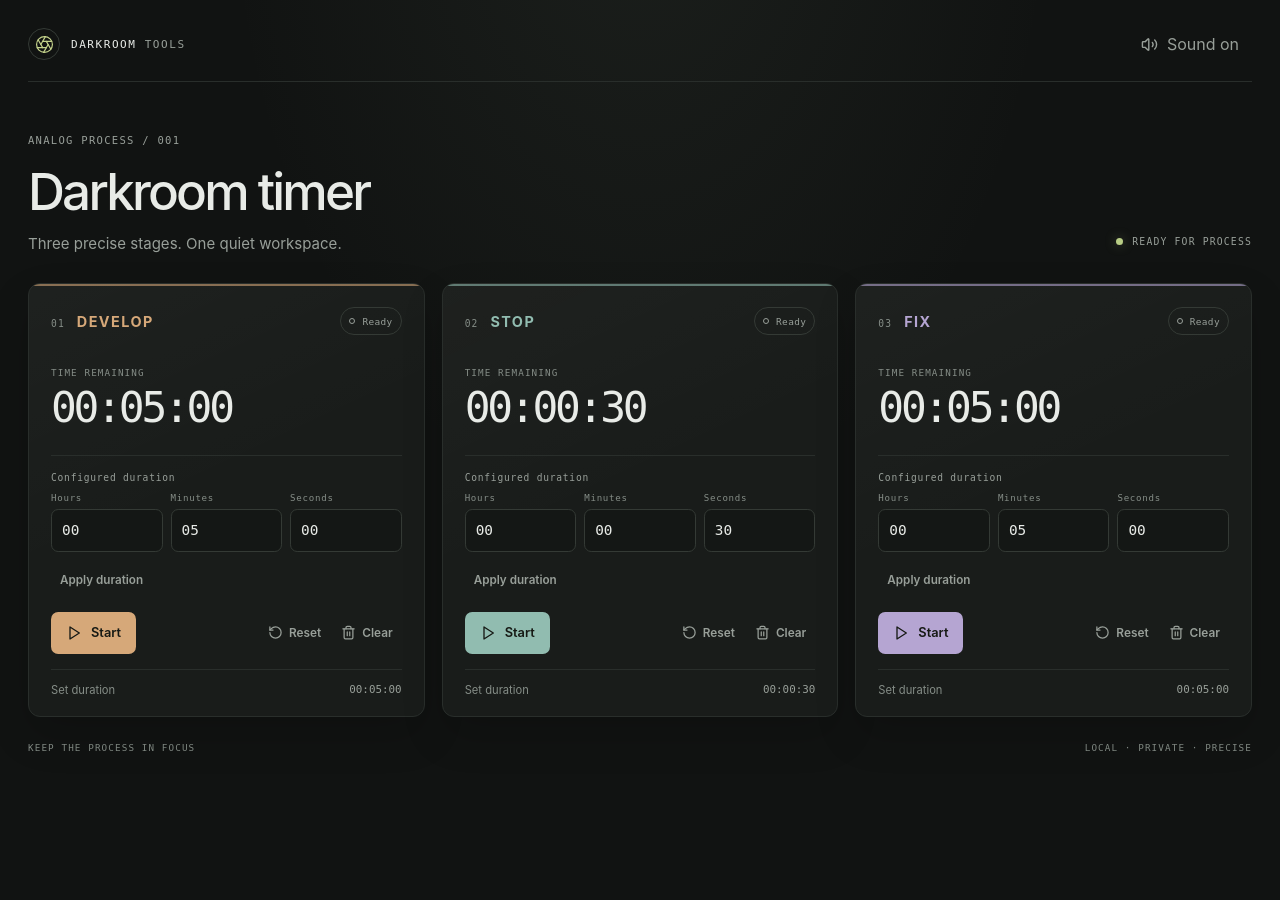
Test case: darkroom timer interactions › rejects invalid durations and does not start a zero duration
Step 1. Replace the text in the field named "DEVELOP seconds" with "60" → (346, 530), box [290,509,402,552]
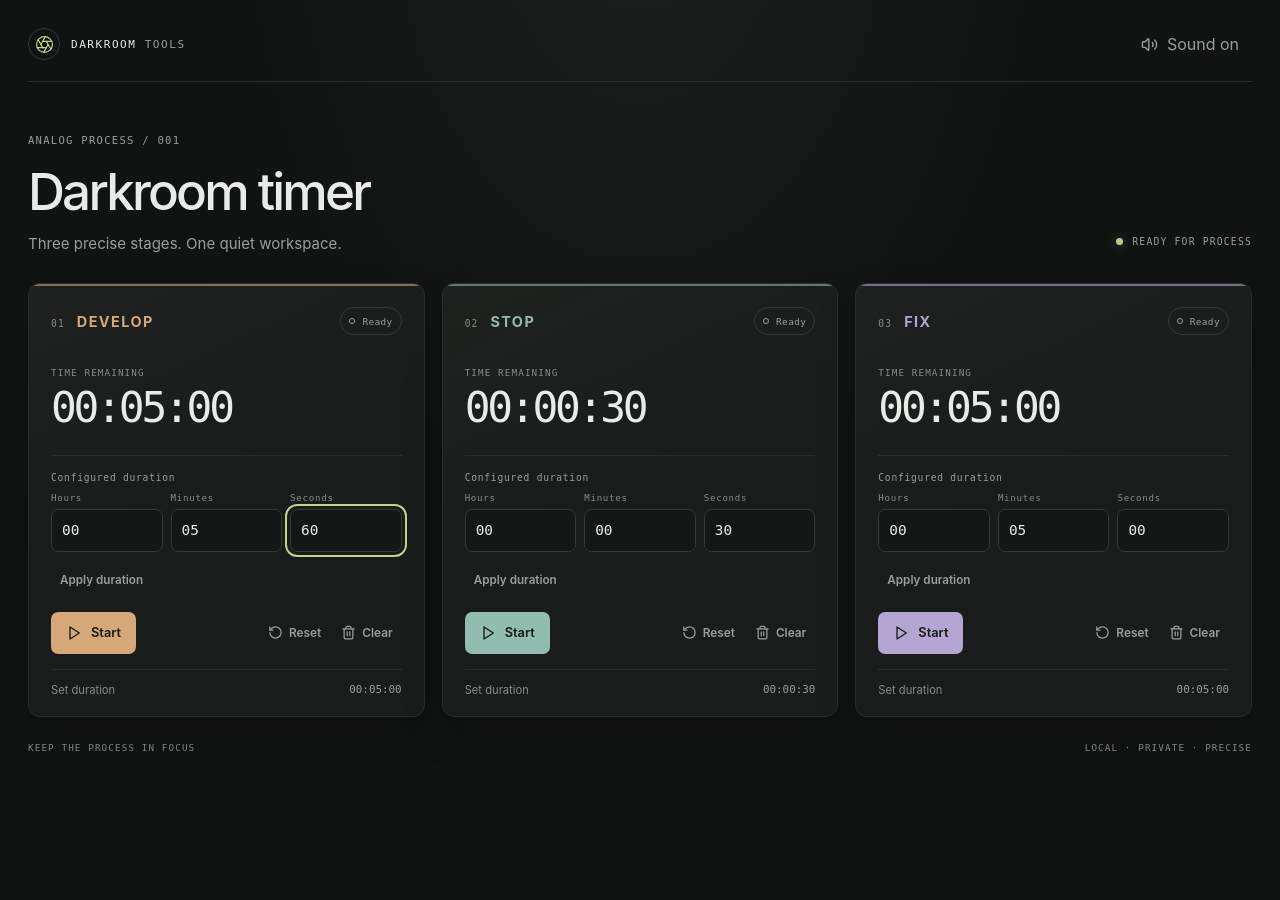
Step 2. Click the button "Apply duration" below "DEVELOP" → (102, 580), box [51,562,152,598]
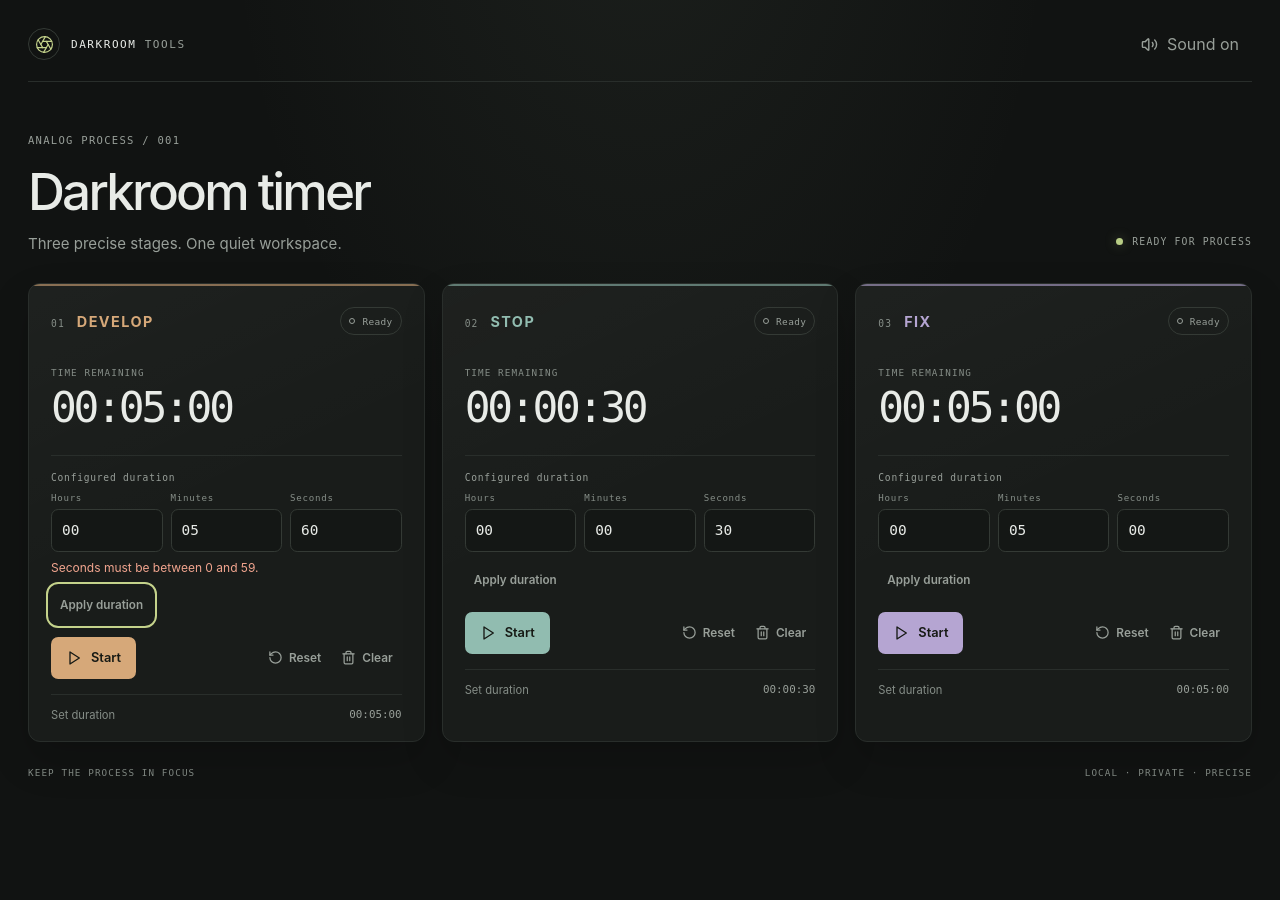
Expected: the message reads "Seconds must be between 0 and 59.", [51,560,259,575]
Step 3. Replace the text in the field named "DEVELOP seconds" with "0" → (346, 530), box [290,509,402,552]
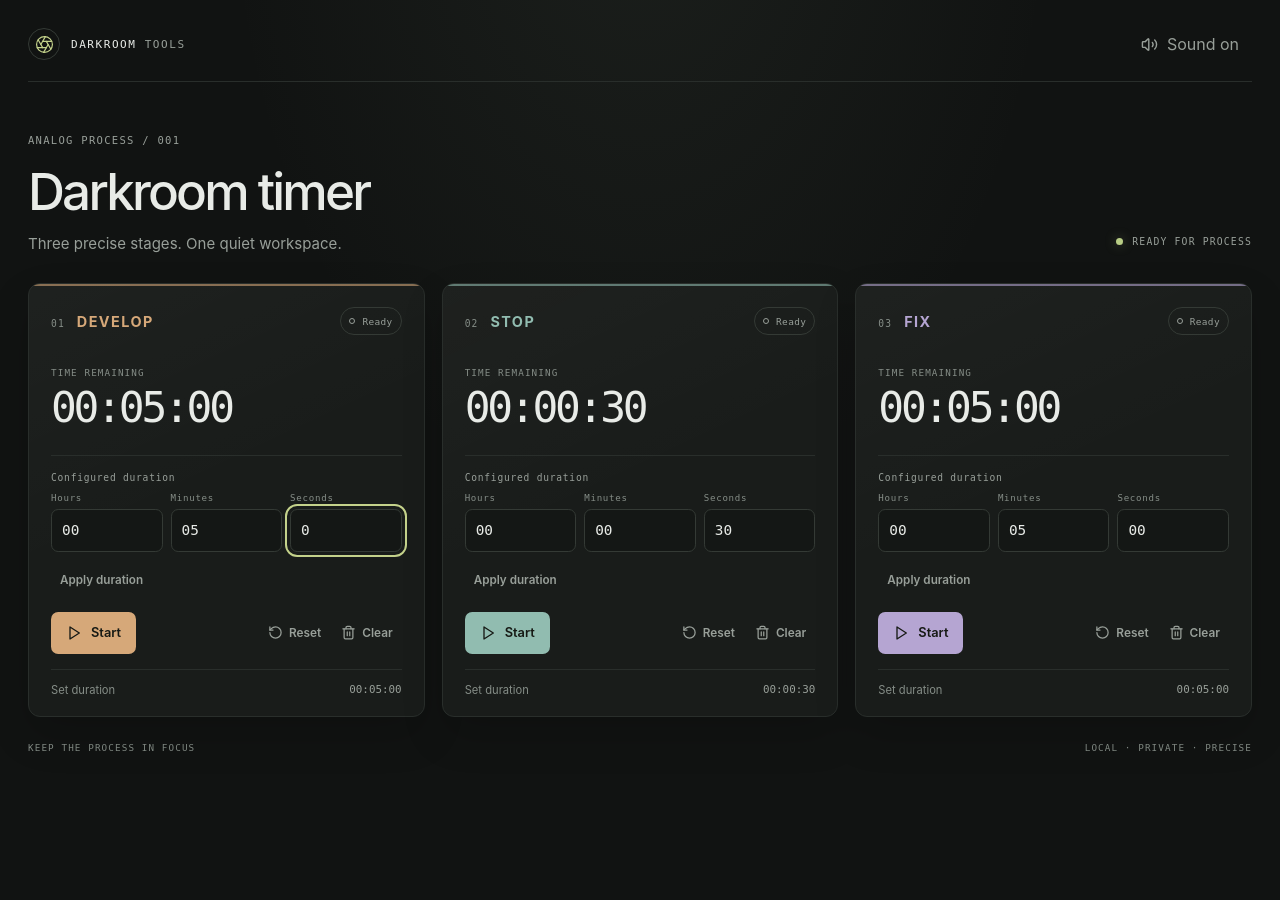
Step 4. Replace the text in the field named "DEVELOP minutes" with "0" → (226, 530), box [170,509,282,552]
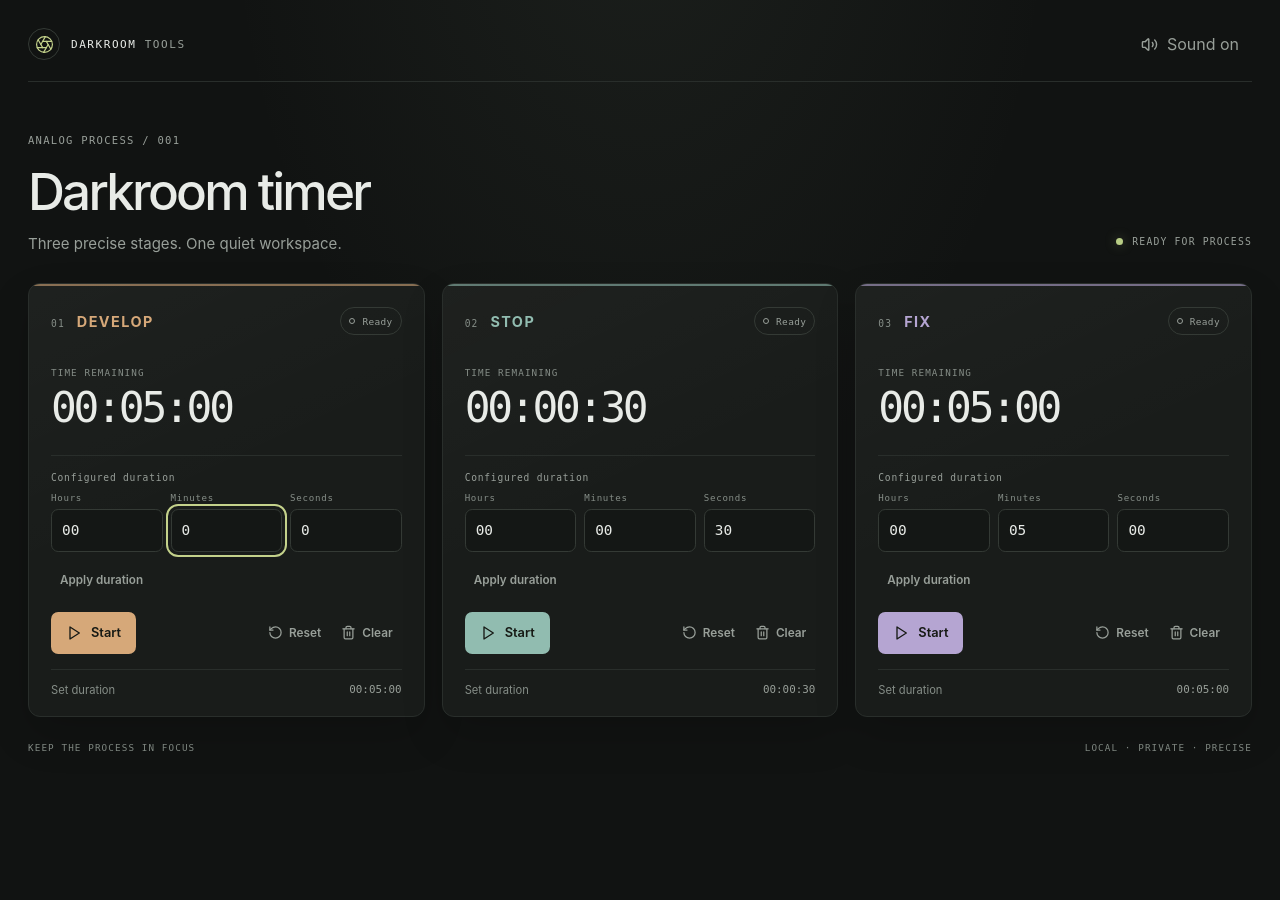
Step 5. Click the button "Apply duration" below "DEVELOP" → (102, 580), box [51,562,152,598]
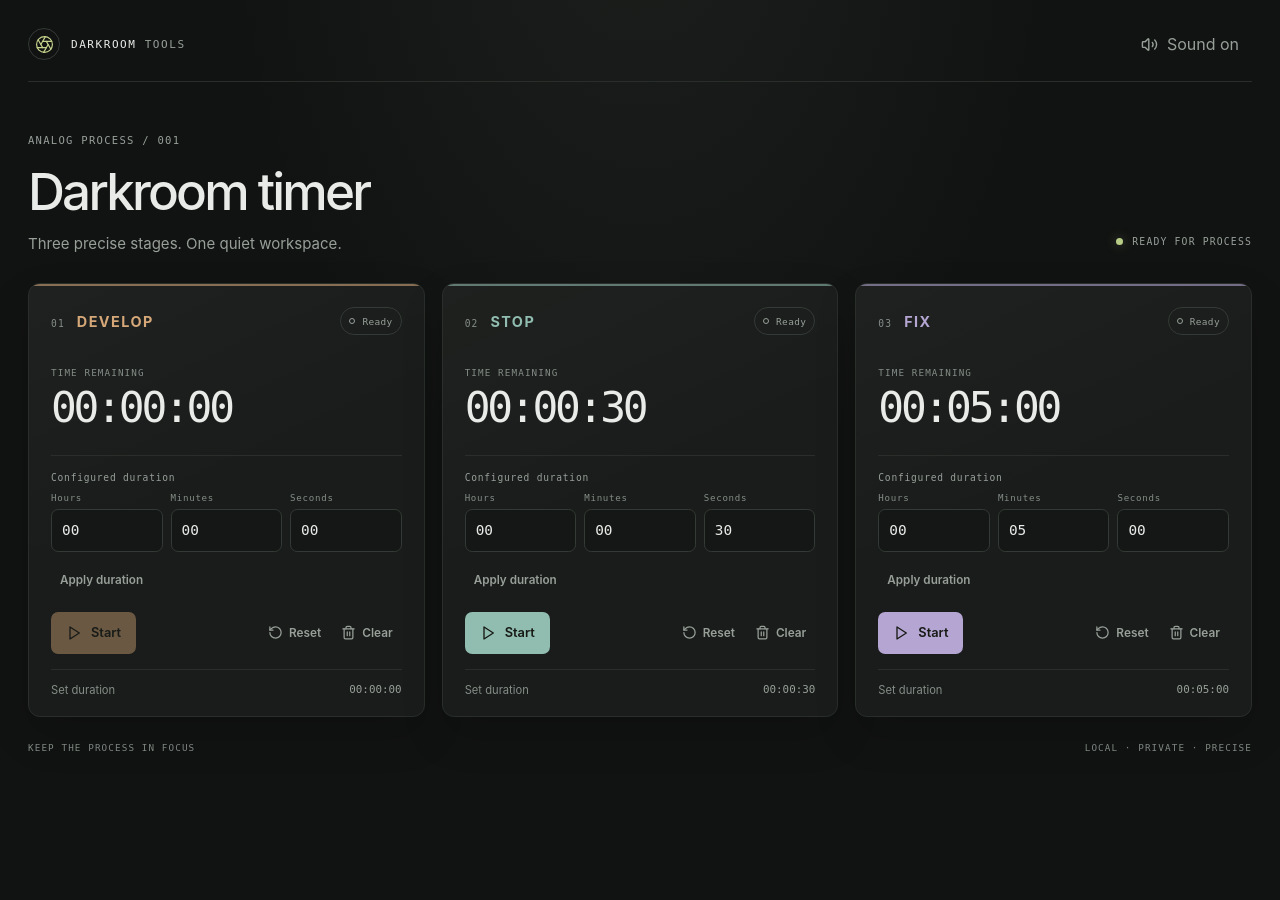
Expected: the 1st text with class "time-display__value" reads "00:00:00", [51,382,232,432]
Expected: the button "Start" below "DEVELOP" is disabled, [51,612,136,654]
